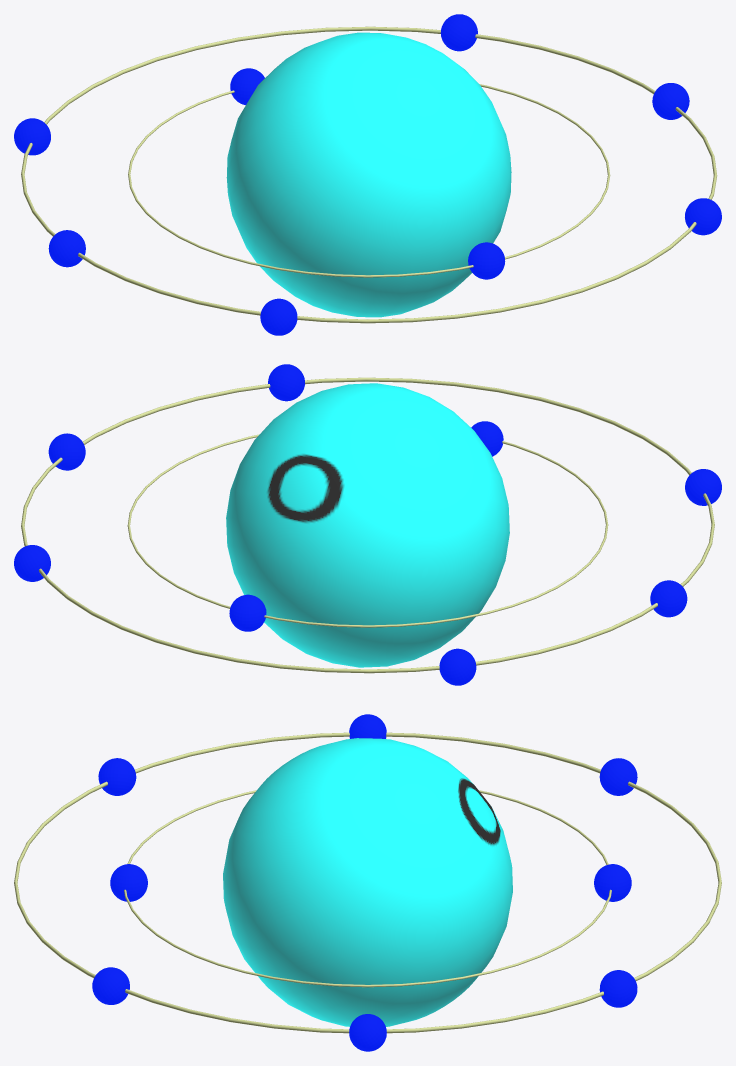
3 views of the same model, one above another, from view 1: azimuth 30°, elevation 25°; view 2: azimuth 150°, elevation 25°; view 3: azimuth 270°, elevation 25° (orthographic). The views are drawn at different scales.
Visible parts, largest first — view 1: 球体, 贝塞尔圆环.001, 贝塞尔圆环, 球体.008, 球体.004, 球体.002, 球体.006, 球体.011, 球体.010, 球体.005, 球体.001; view 2: 球体, 贝塞尔圆环.001, 贝塞尔圆环, 球体.001, 球体.005, 球体.010, 球体.006, 球体.011, 球体.002, 球体.008, 球体.004; view 3: 球体, 贝塞尔圆环.001, 贝塞尔圆环, 球体.011, 球体.002, 球体.010, 球体.001, 球体.004, 球体.008, 球体.005, 球体.006.
Boxes of the visible parts, box(x1,y1,x2,y2) form: 球体: box(226, 32, 511, 317); 贝塞尔圆环.001: box(21, 26, 717, 323); 贝塞尔圆环: box(128, 84, 610, 277); 球体.008: box(260, 298, 297, 335); 球体.004: box(468, 242, 505, 279); 球体.002: box(440, 14, 477, 51); 球体.006: box(48, 230, 85, 267); 球体.011: box(652, 83, 689, 119); 球体.010: box(685, 198, 721, 235); 球体.005: box(14, 118, 50, 155); 球体.001: box(230, 68, 264, 105); 球体: box(226, 383, 509, 667); 贝塞尔圆环.001: box(21, 377, 714, 673); 贝塞尔圆环: box(127, 434, 608, 627); 球体.001: box(229, 594, 266, 631); 球体.005: box(439, 648, 476, 685); 球体.010: box(268, 364, 304, 401); 球体.006: box(650, 580, 687, 617); 球体.011: box(48, 433, 85, 470); 球体.002: box(14, 545, 50, 581); 球体.008: box(685, 469, 721, 505); 球体.004: box(471, 421, 503, 456); 球体: box(223, 738, 512, 1026); 贝塞尔圆环.001: box(14, 732, 721, 1033); 贝塞尔圆环: box(124, 790, 611, 987); 球体.011: box(349, 1014, 386, 1051); 球体.002: box(599, 970, 637, 1007); 球体.010: box(92, 967, 129, 1004); 球体.001: box(594, 864, 631, 901); 球体.004: box(110, 864, 147, 901); 球体.008: box(98, 758, 136, 795); 球体.005: box(599, 758, 637, 795); 球体.006: box(349, 714, 386, 738).
Bounding box in the file's own units: 1.85 × 0.7205 × 1.76.
Materials: 3 (1 with a texture image).
